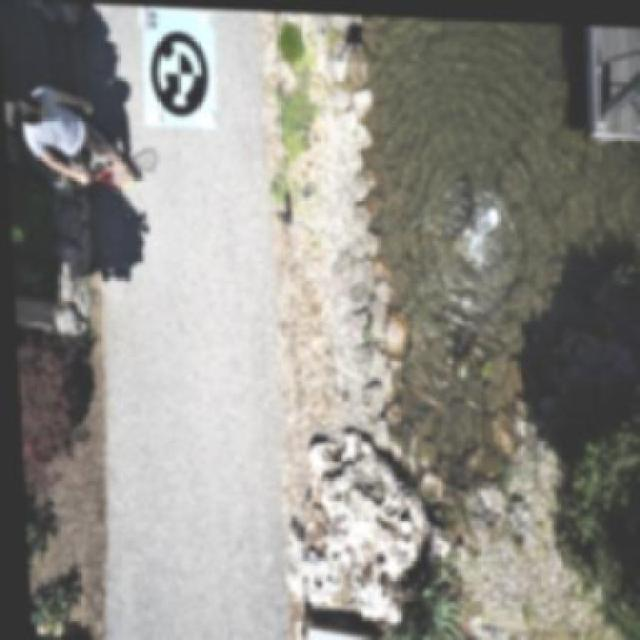Person: (5, 84, 140, 188)
